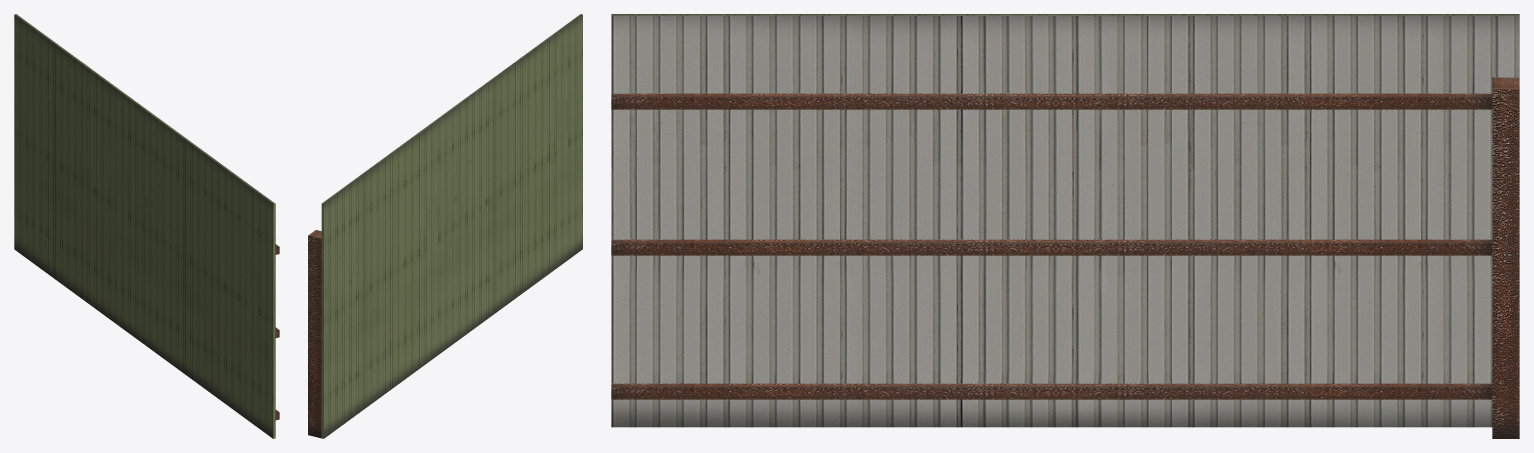
Rendered from sibir_zabor_metal.FBX.
3 views of the same model, side by side, from view 1: azimuth 30°, elevation 25°; view 2: azimuth 150°, elevation 25°; view 3: azimuth 270°, elevation 25° (orthographic). The views are drawn at different scales.
Parts seen in each view (by area): view 1: sibir_zabor_metal; view 2: sibir_zabor_metal; view 3: sibir_zabor_metal.
Boxes of the visible parts, x1,y1,x2,y2 form: sibir_zabor_metal: (14, 14, 279, 438); sibir_zabor_metal: (308, 14, 582, 438); sibir_zabor_metal: (611, 14, 1519, 438).
Size of the model in its own units: 14.01 by 400 by 200.
